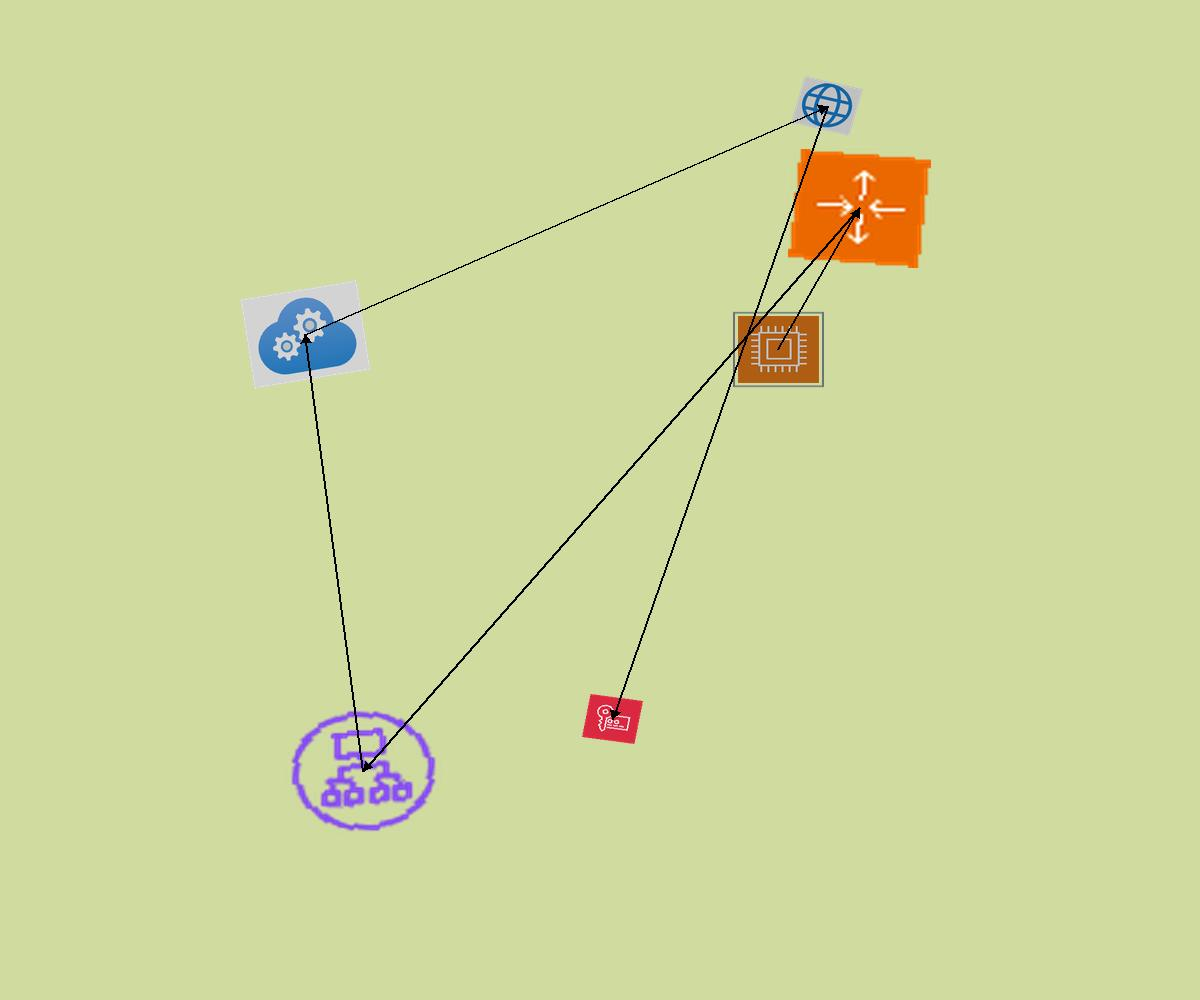AWS-Category_Compute: (732, 311, 825, 388)
AWS-Key-Management-Service: (582, 694, 643, 744)
AWS-Res_Elastic-Load-Balancing_Application-Load-Balancer: (276, 698, 451, 844)
AWS-Scaling-group: (788, 149, 931, 268)
Azure_cloud_services: (240, 280, 371, 389)
Azure_http: (791, 76, 863, 136)
